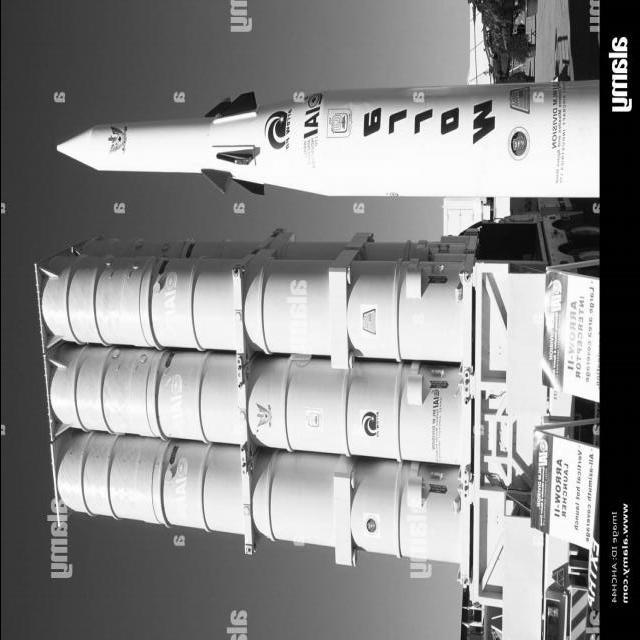missile: (46, 55, 592, 217)
